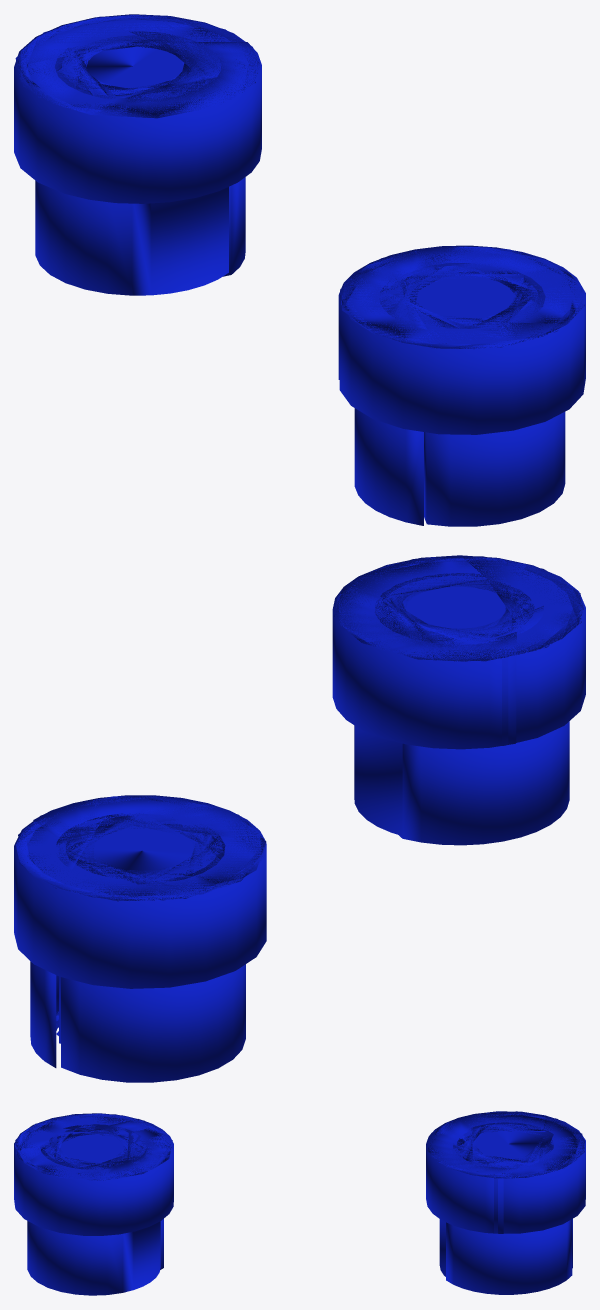
The model's file is tuyeau_element_000007.obj.
3 renders of one model, top to bottom at view 1: azimuth 30°, elevation 25°; view 2: azimuth 150°, elevation 25°; view 3: azimuth 270°, elevation 25°, orthographic. The views are drawn at different scales.
Visible parts, largest first — view 1: tuyeau2_Cube.017, tuyeau1_Cube.014; view 2: tuyeau2_Cube.017, tuyeau1_Cube.014; view 3: tuyeau1_Cube.014, tuyeau2_Cube.017.
Part boxes in pixels (box(x1,y1,x2,y2)): tuyeau2_Cube.017: box(338, 245, 585, 526); tuyeau1_Cube.014: box(14, 14, 261, 295); tuyeau2_Cube.017: box(332, 555, 585, 845); tuyeau1_Cube.014: box(14, 795, 266, 1082); tuyeau1_Cube.014: box(426, 1111, 585, 1294); tuyeau2_Cube.017: box(14, 1113, 173, 1295).
Bounding box in the file's own units: 3616 × 2917 × 12560.
